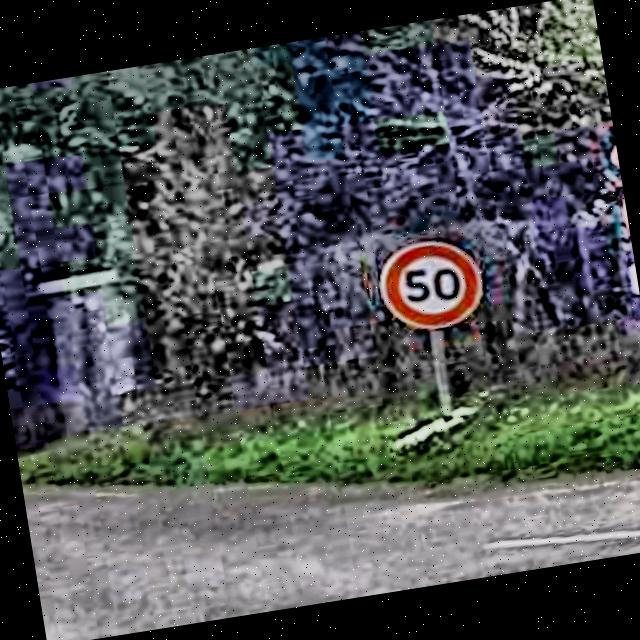speed_50: (378, 236, 488, 334)
